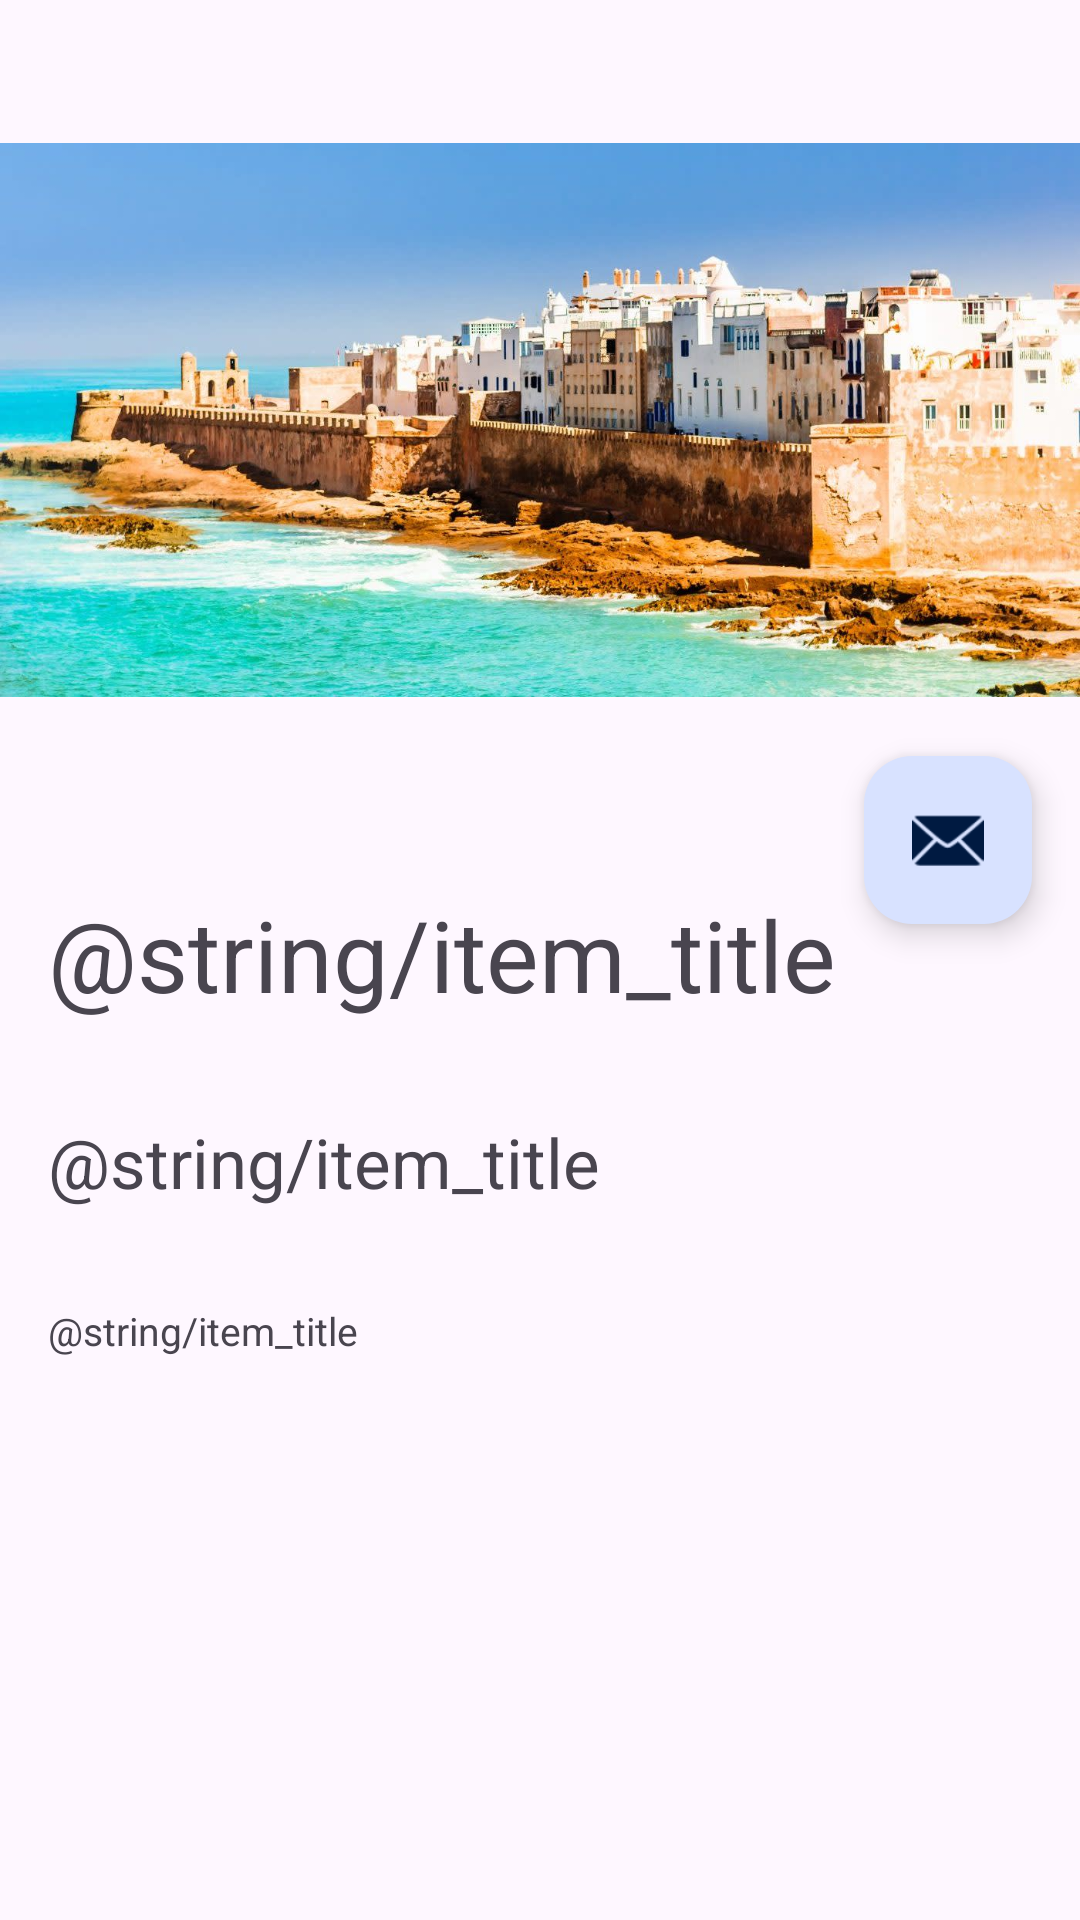

Point at icon controls on the screen. Image size 1080*1920, points as point (x, y).
email: point (948, 840)
